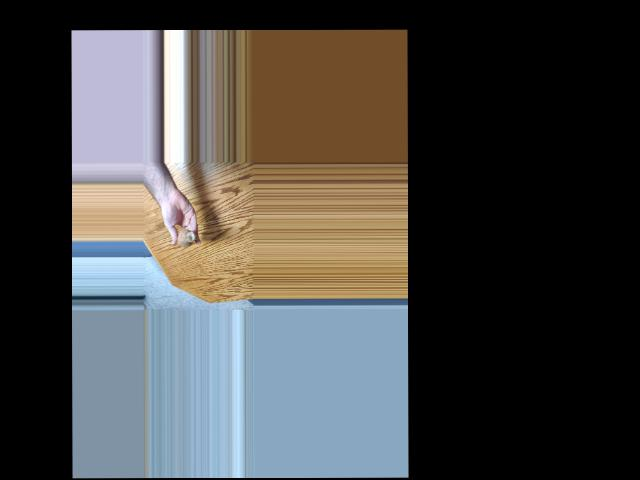sweet_potato: (176, 229, 194, 248)
